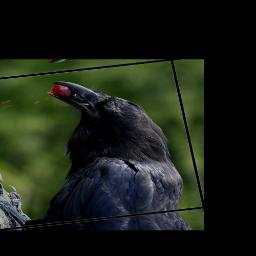Crow: (0, 69, 190, 229)
